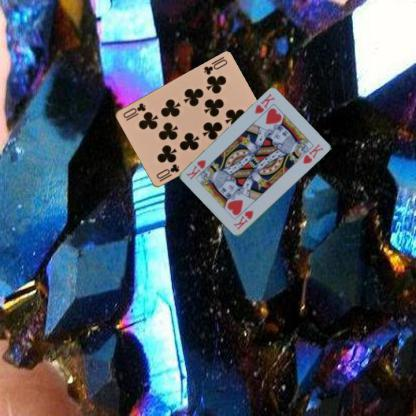10c: (201, 54, 228, 76), (154, 161, 180, 180)
Kh: (252, 91, 277, 115), (230, 208, 255, 231)
